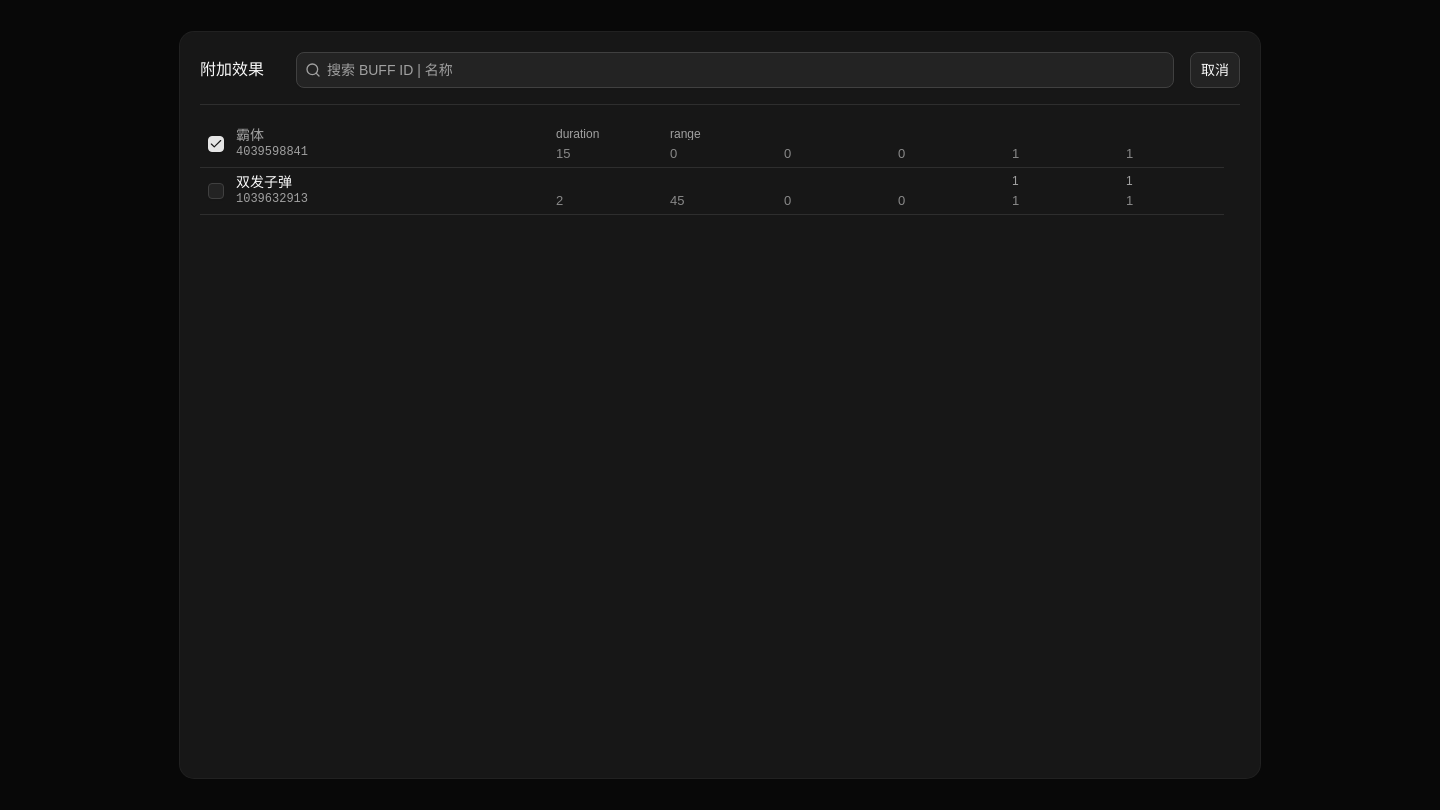
Scenario: 附加效果弹窗 › 前导零归一到单个 0
This screenshot has width=1440, height=810.
Type "00" into the field named "霸体 4039598841 2" at (715, 154), box [670,147,760,160]
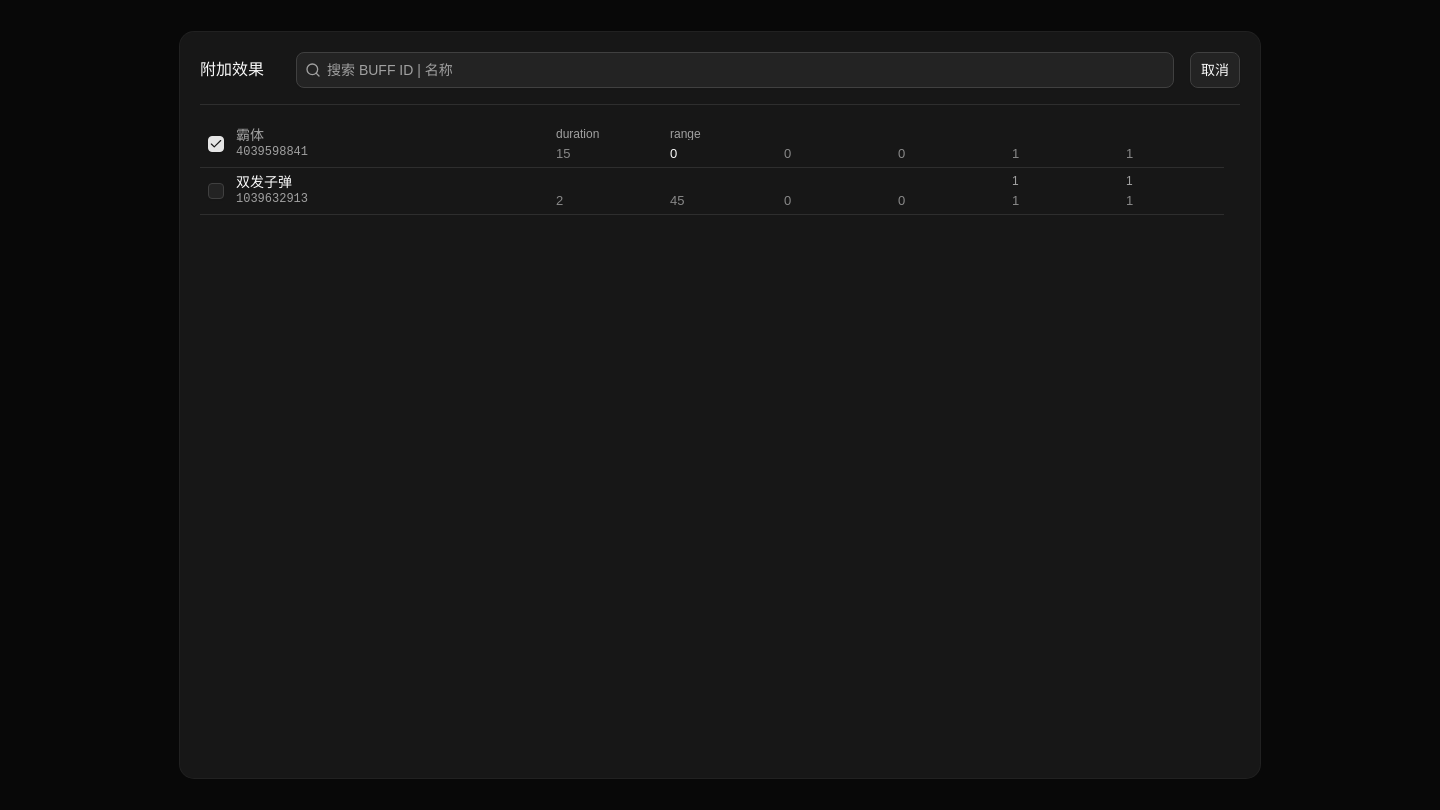
Now the field named "霸体 4039598841 2" holds "0"
Type "007" into the field named "霸体 4039598841 2" at (715, 154), box [670,147,760,160]
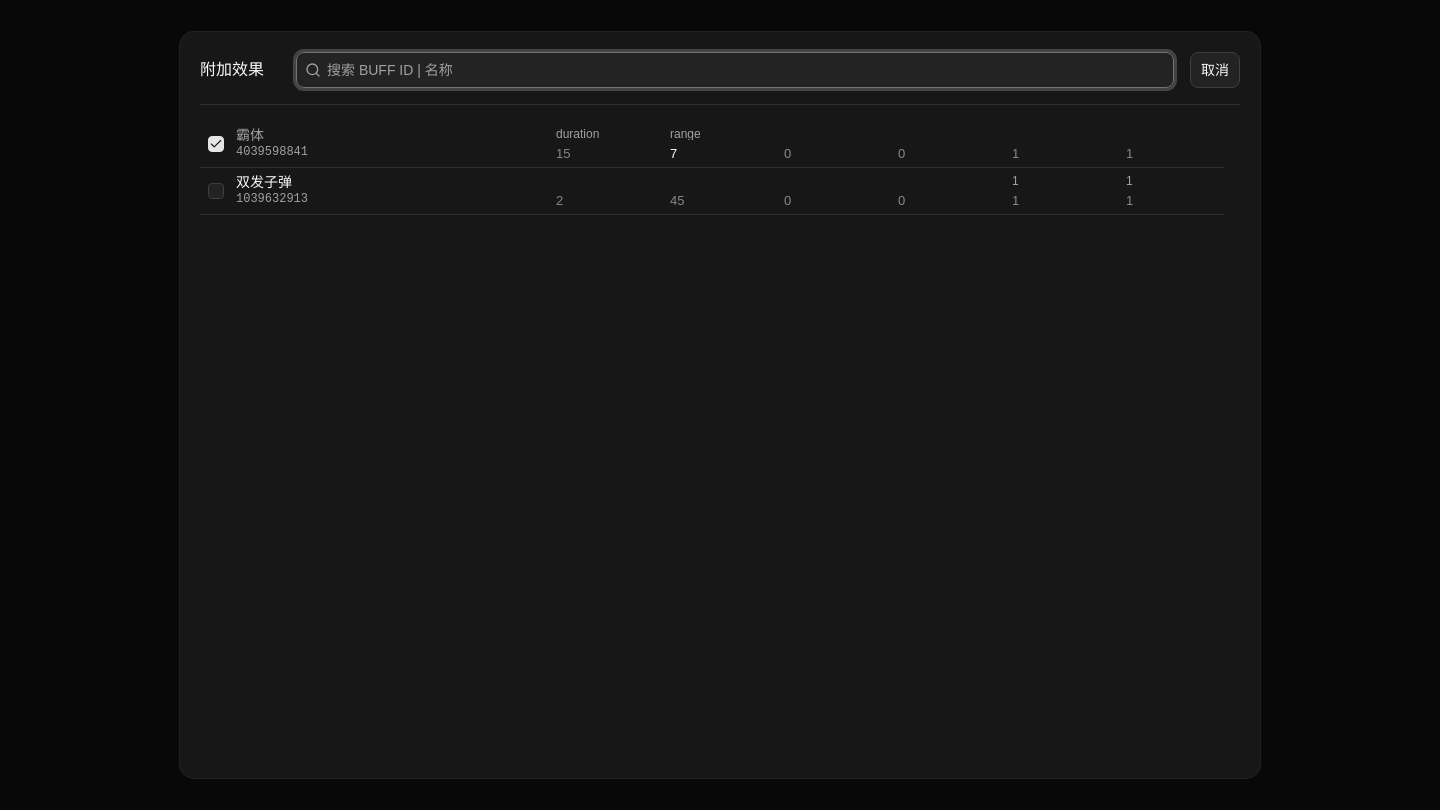
Now the field named "霸体 4039598841 2" holds "7", box [670,147,760,160]
